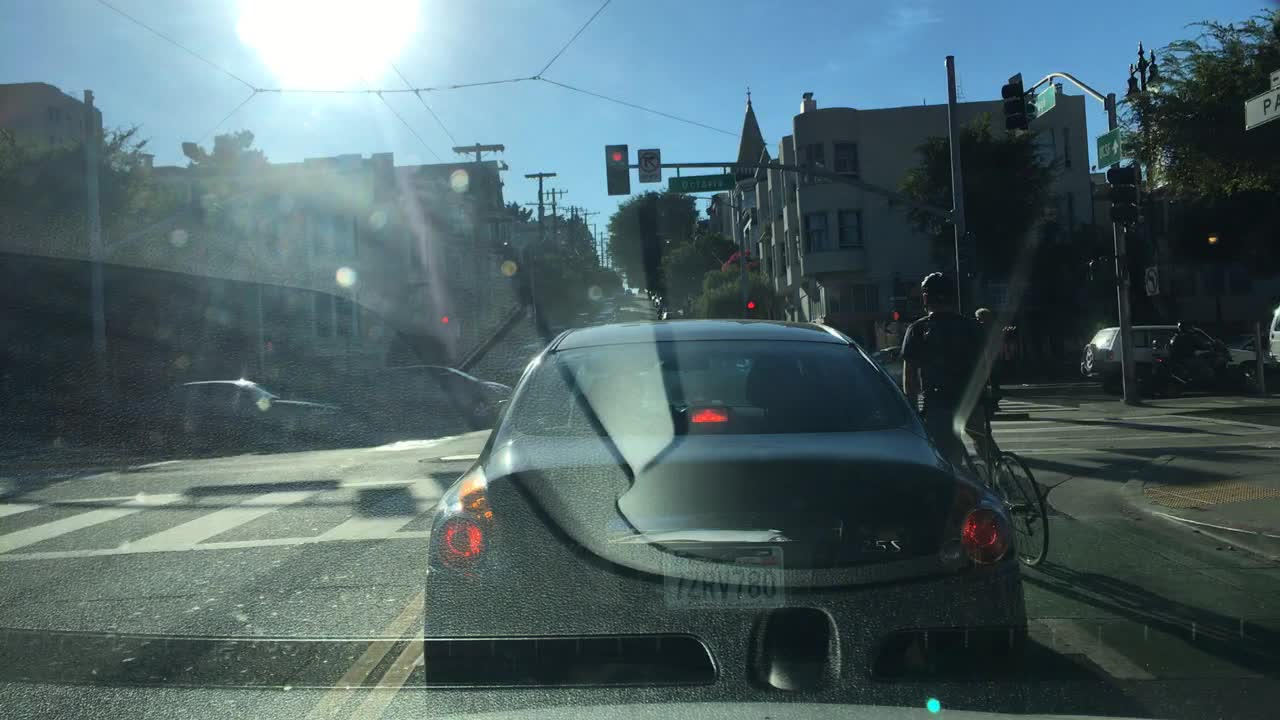bike: (907, 398, 1057, 555)
car: (420, 315, 1030, 708), (124, 374, 344, 448), (1080, 320, 1264, 395), (370, 364, 511, 423), (8, 381, 138, 443), (876, 345, 923, 390), (1266, 306, 1278, 371), (575, 310, 598, 325), (659, 306, 682, 321), (595, 304, 618, 317), (598, 293, 614, 306), (642, 286, 656, 296), (654, 293, 664, 306)
motor: (1144, 340, 1232, 393)
rider: (901, 267, 991, 462), (1166, 318, 1218, 392), (969, 295, 1001, 410)
traffic light: (996, 70, 1026, 130), (1107, 162, 1135, 225), (606, 144, 629, 197), (437, 309, 451, 331), (742, 296, 757, 315), (887, 309, 904, 323)
traffic sign: (1241, 89, 1278, 132), (668, 173, 732, 192), (1094, 133, 1122, 168), (1029, 87, 1057, 119), (1138, 262, 1161, 296), (637, 150, 659, 184), (1266, 69, 1277, 89)
